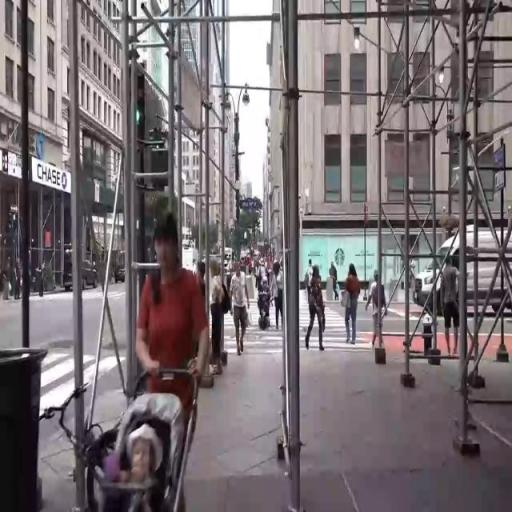person: (139, 213, 203, 427), (210, 254, 228, 391), (441, 255, 464, 361), (229, 259, 247, 359), (368, 265, 387, 346), (310, 263, 326, 356), (344, 264, 360, 345), (197, 257, 209, 328), (272, 265, 285, 324), (257, 276, 270, 328), (331, 261, 341, 302), (16, 255, 24, 305), (307, 256, 312, 285), (260, 255, 266, 276)
